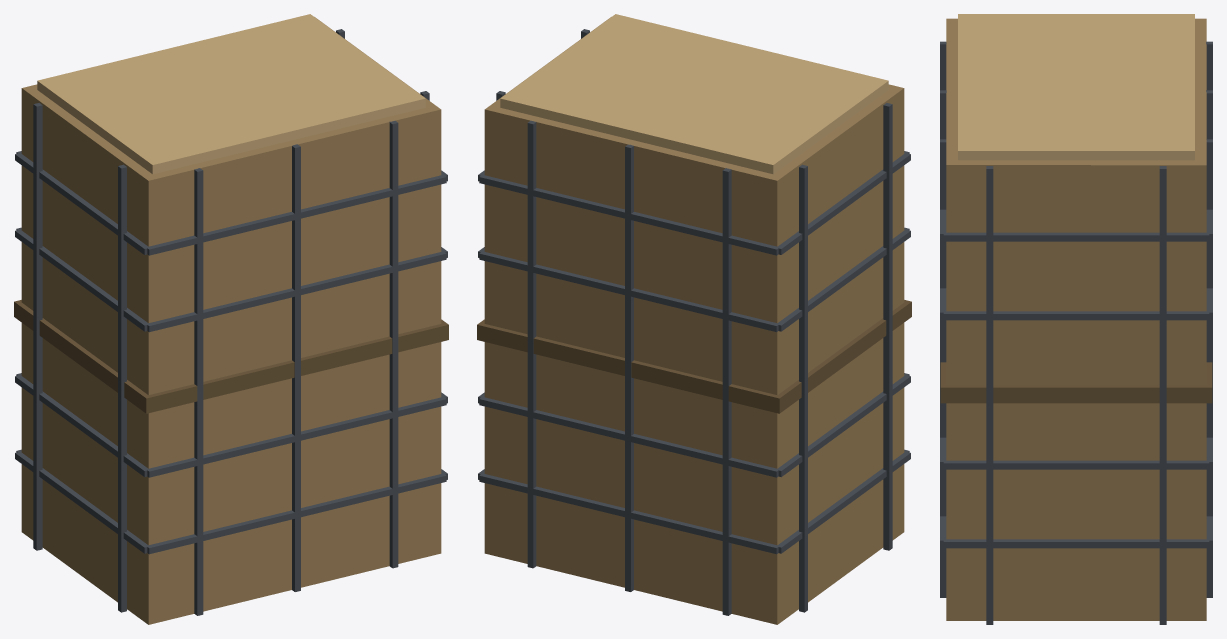
The model's file is env_hesco_tall.fbx.
3 views of the same model, side by side, from view 1: azimuth 30°, elevation 25°; view 2: azimuth 150°, elevation 25°; view 3: azimuth 270°, elevation 25° (orthographic). The views are drawn at different scales.
Visible parts, largest first — view 1: env_hesco_tall; view 2: env_hesco_tall; view 3: env_hesco_tall.
Part boxes in pixels (x1,y1,x2,y2): env_hesco_tall: [14, 14, 448, 624]; env_hesco_tall: [477, 14, 911, 624]; env_hesco_tall: [940, 14, 1212, 624].
Bounding box in the file's own units: 632 × 888 × 472.
